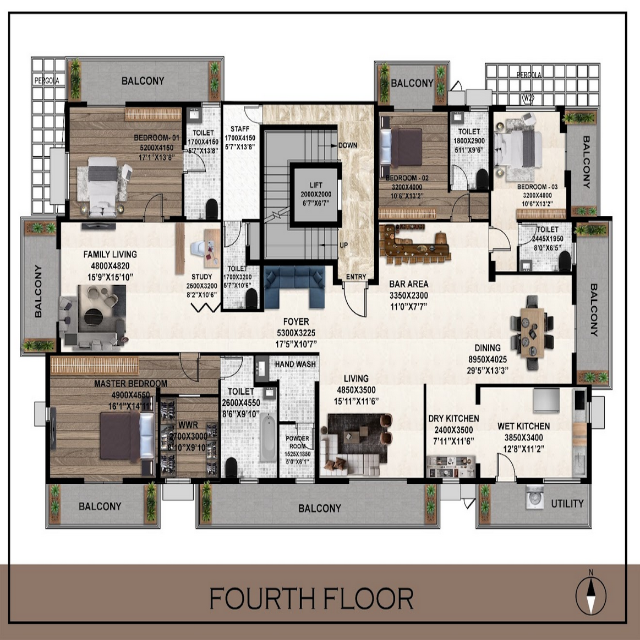door: (342, 282, 369, 320), (182, 147, 206, 174), (143, 192, 166, 220), (518, 219, 539, 249), (490, 224, 510, 255), (179, 354, 201, 382), (295, 421, 315, 450), (496, 451, 516, 480), (219, 356, 243, 380), (223, 220, 243, 248), (452, 193, 472, 221), (451, 163, 469, 190), (244, 104, 262, 126)
